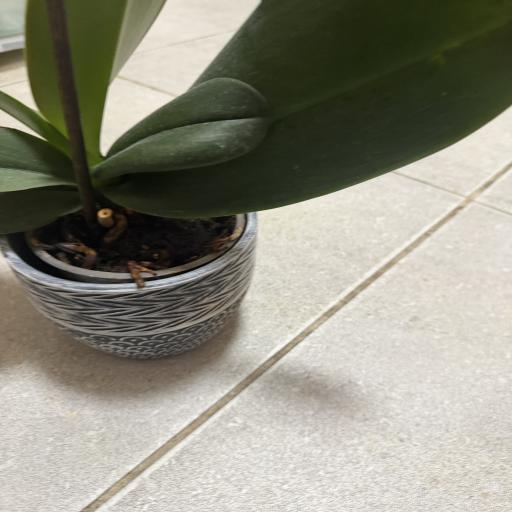Plant Pot: (2, 192, 265, 361)
